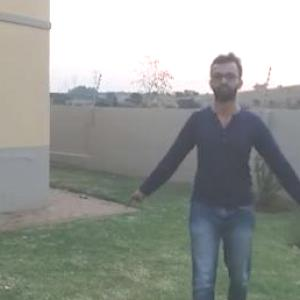land: (127, 46, 299, 299)
